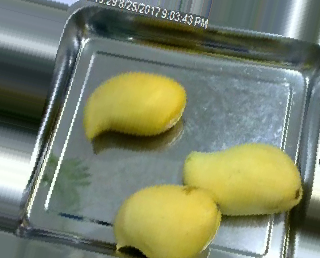Mango: (180, 131, 305, 213), (105, 179, 222, 257), (75, 70, 190, 147)
